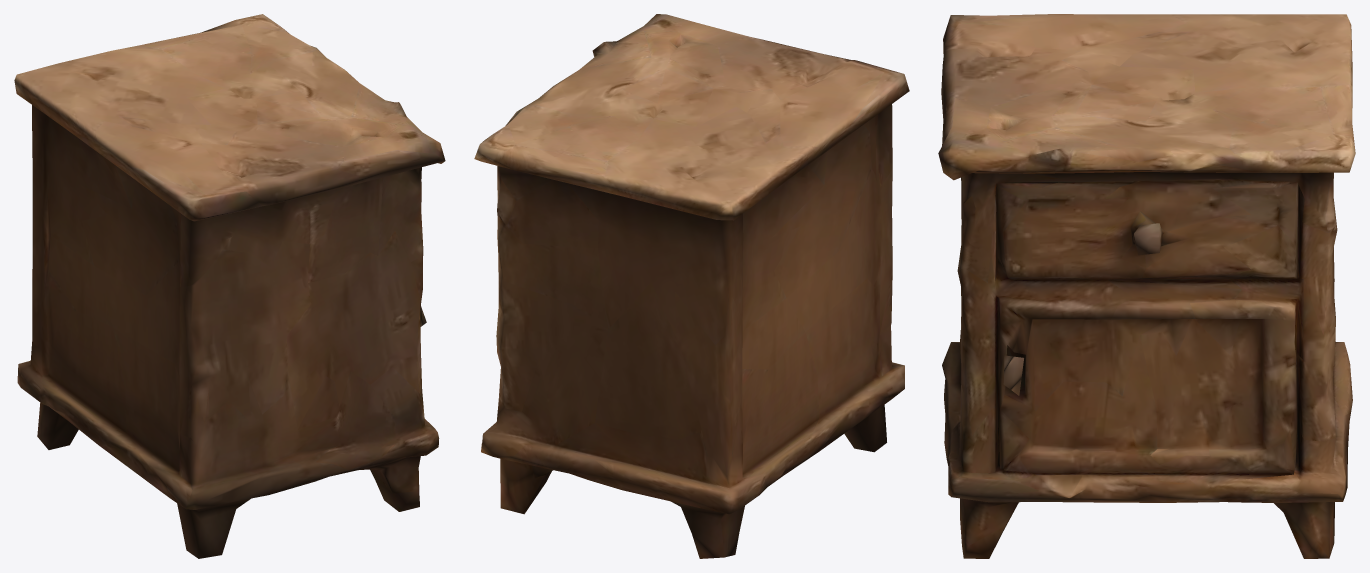
File: e_nightstand.glb
The picture shows the model from 3 angles, left to right: view 1: azimuth 30°, elevation 25°; view 2: azimuth 150°, elevation 25°; view 3: azimuth 270°, elevation 25°; orthographic projection. The views are drawn at different scales.
Visible parts, largest first — view 1: tripo_node_a3cee865-d5d3-43ab-b9f3-7a02d6e225dc; view 2: tripo_node_a3cee865-d5d3-43ab-b9f3-7a02d6e225dc; view 3: tripo_node_a3cee865-d5d3-43ab-b9f3-7a02d6e225dc.
Part boxes in pixels (bbox=[...]): tripo_node_a3cee865-d5d3-43ab-b9f3-7a02d6e225dc: bbox=[14, 14, 445, 558]; tripo_node_a3cee865-d5d3-43ab-b9f3-7a02d6e225dc: bbox=[474, 14, 909, 558]; tripo_node_a3cee865-d5d3-43ab-b9f3-7a02d6e225dc: bbox=[938, 14, 1355, 558].
Bounding box in the file's own units: 0.7511 × 1 × 0.9008.
Materials: 1 (1 with a texture image).
